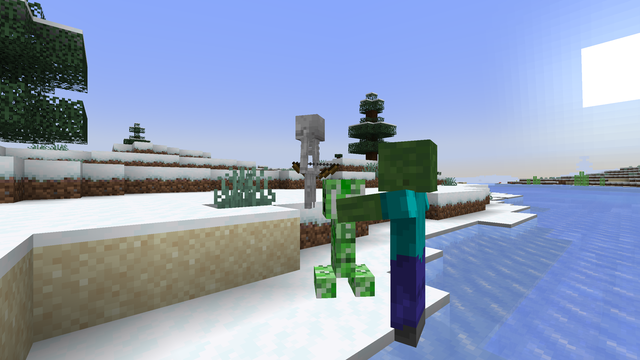creepers: (311, 173, 358, 313)
squelettes: (291, 113, 329, 209)
zombies: (368, 143, 449, 357)
